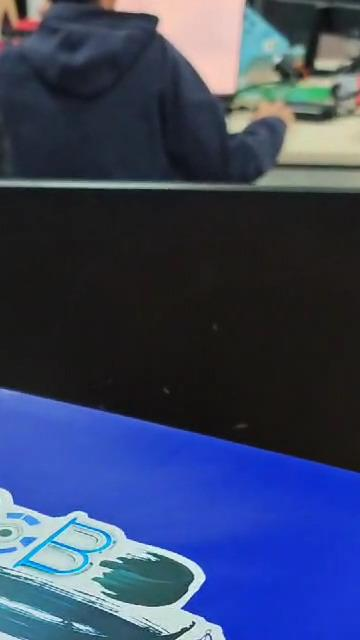B_R1: (0, 473, 312, 640)
